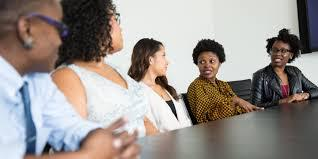Person: (186, 38, 264, 125), (127, 37, 194, 125), (251, 27, 318, 108)
